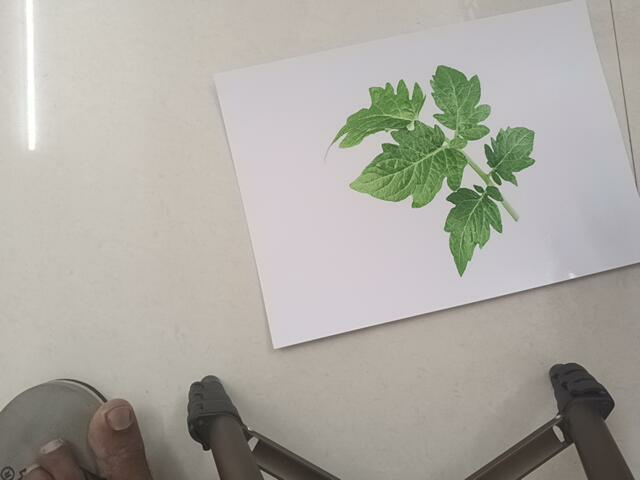Tomamto_Leaf_Healthy: (327, 68, 546, 263)
